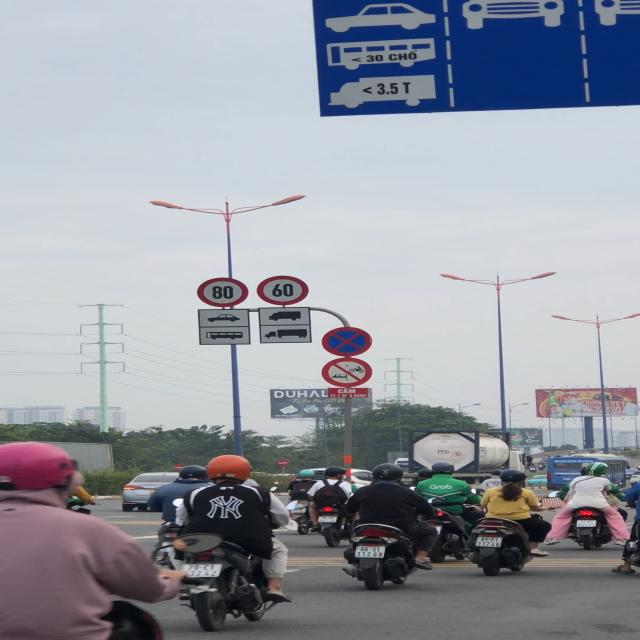Bien bao cam dung xe va do xe: (321, 326, 373, 358)
Bien bao toc do toi da cho phep: (255, 275, 308, 306), (197, 278, 249, 308)
